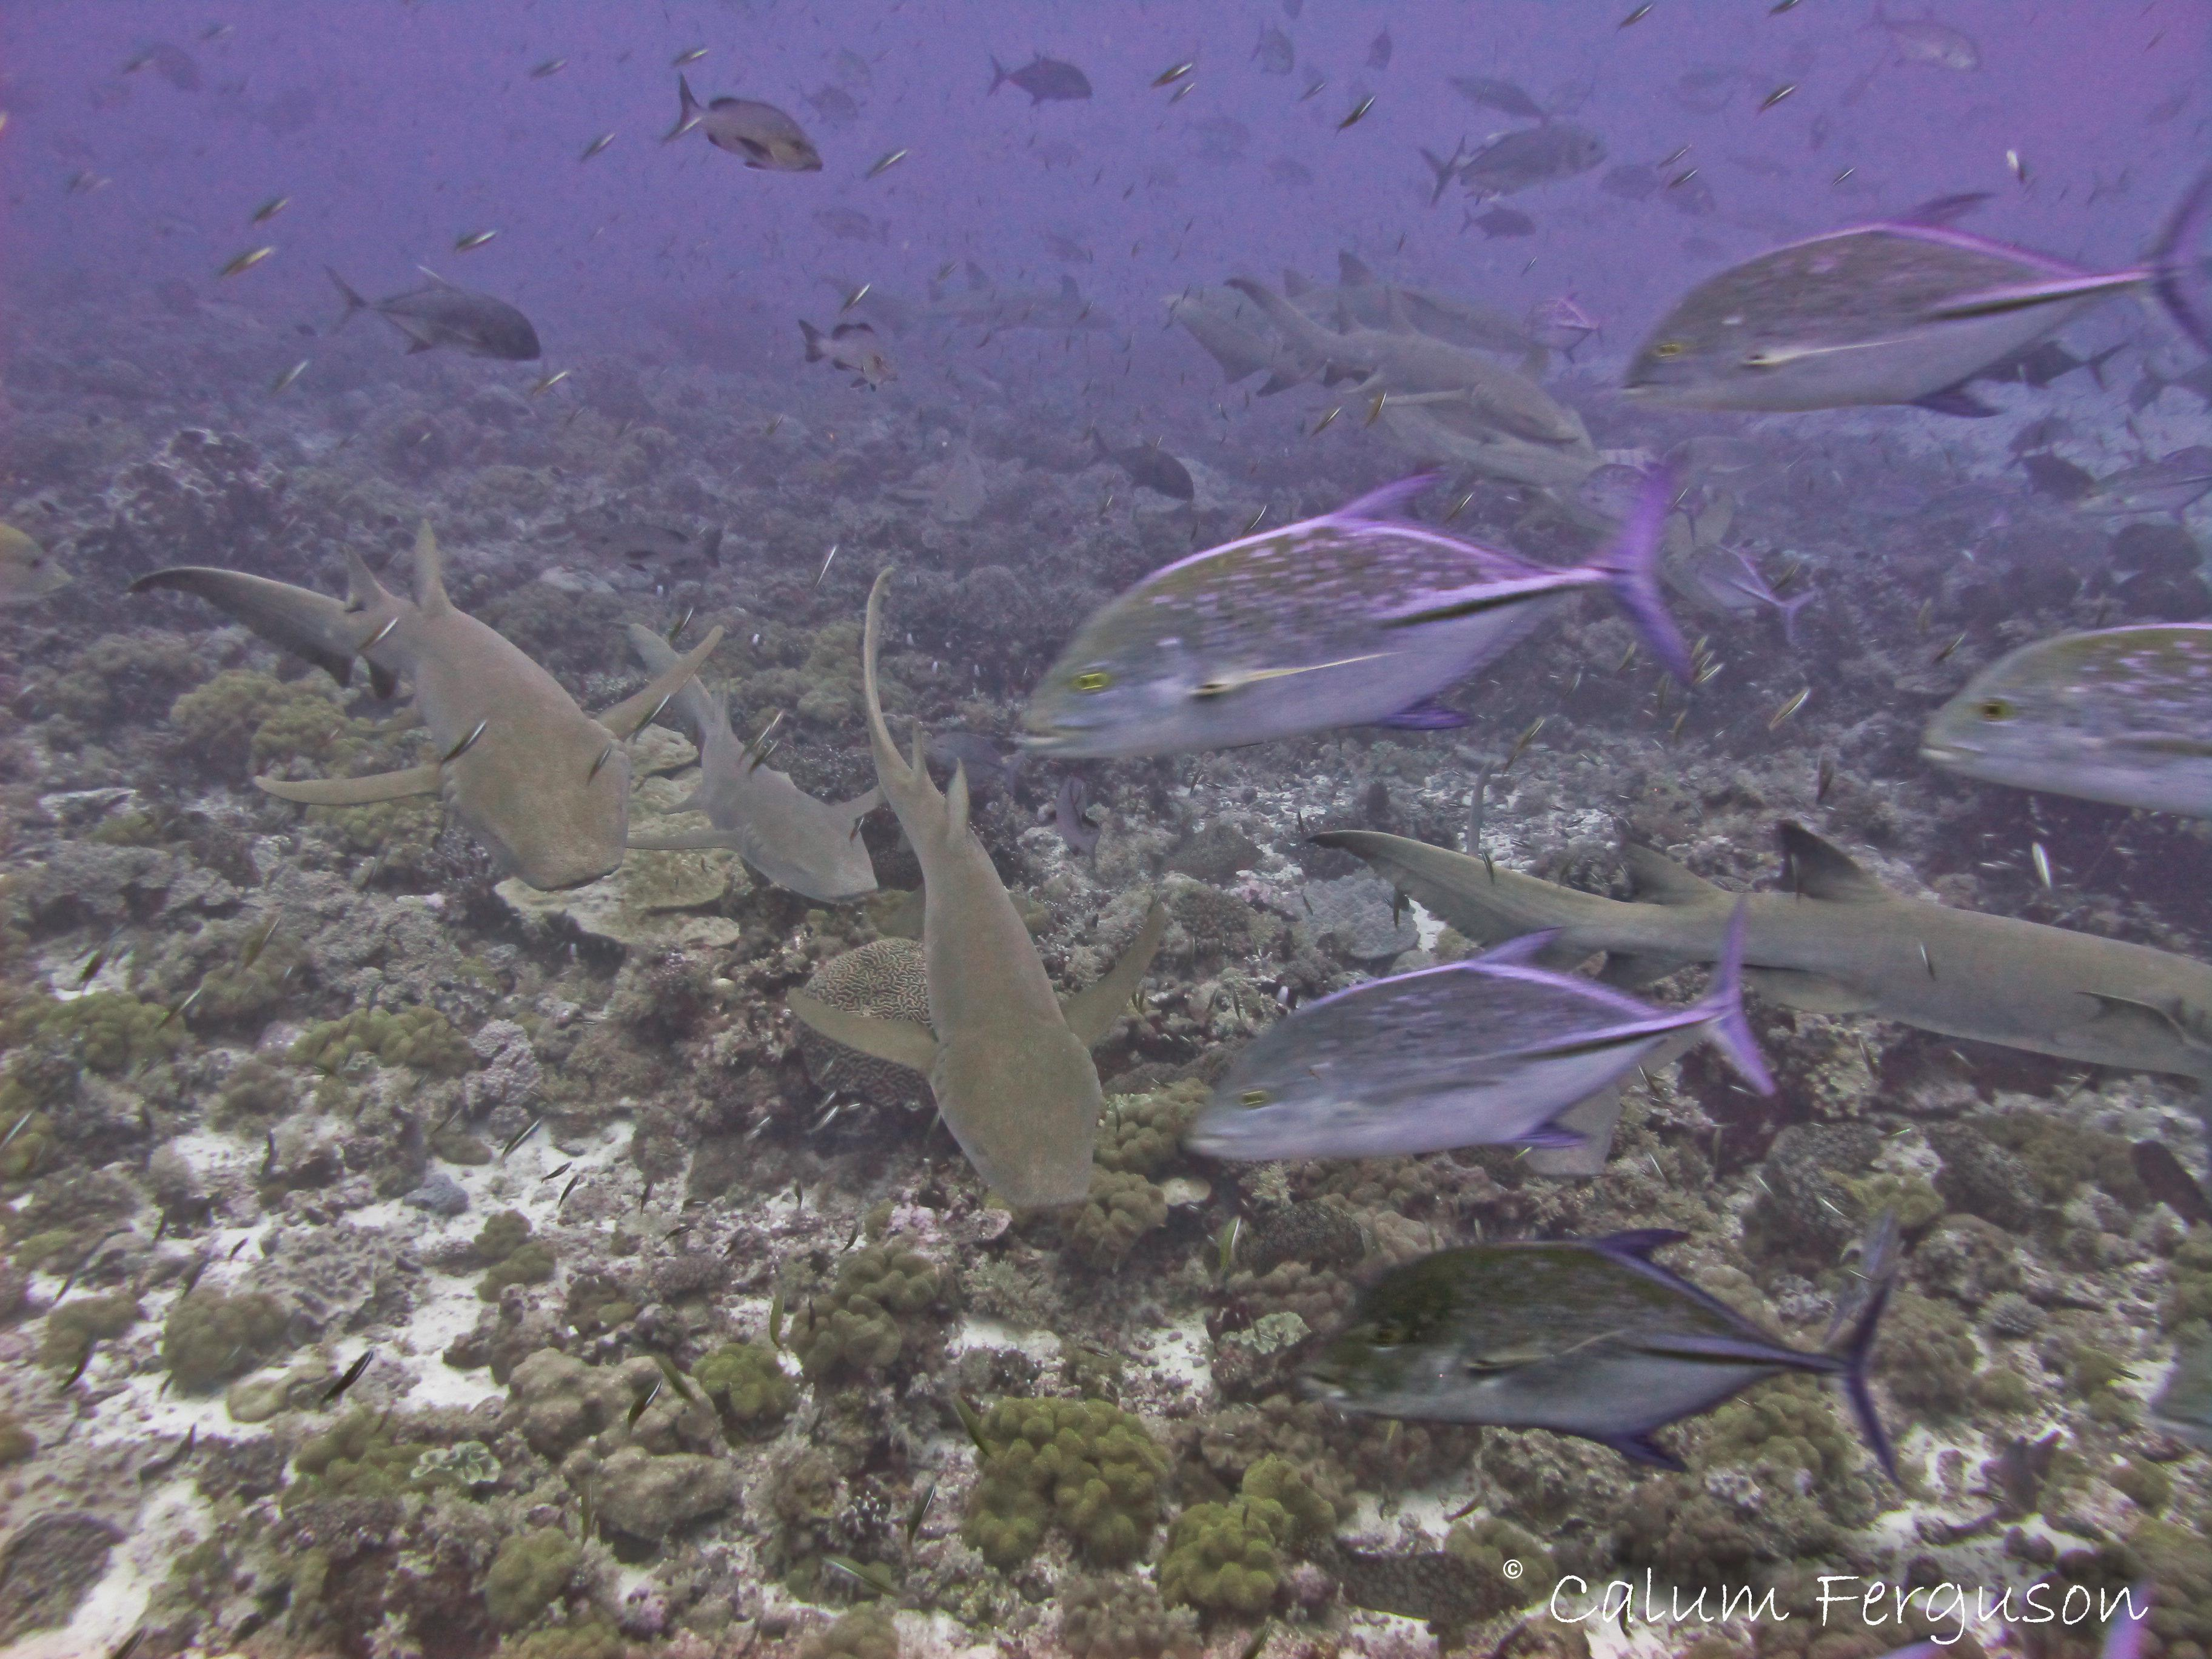Fish: (805, 537, 1186, 1243), (118, 467, 719, 915)
